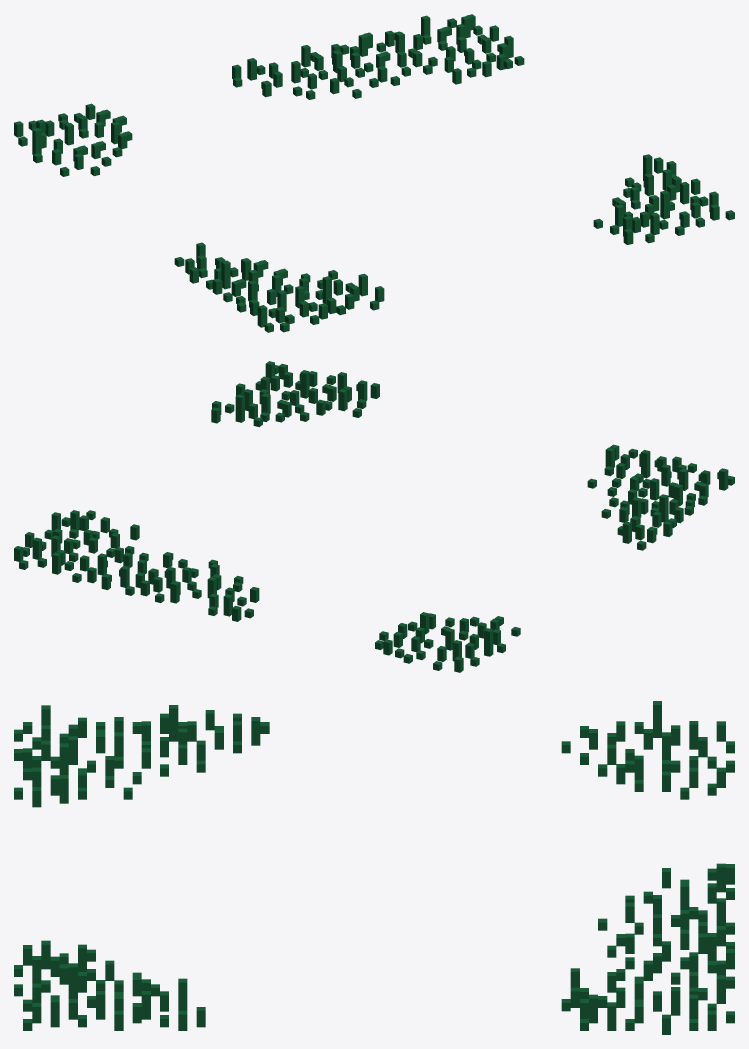
File: river_plants_3_overtile.obj
The picture shows the model from 3 angles, top to bottom: view 1: azimuth 30°, elevation 25°; view 2: azimuth 150°, elevation 25°; view 3: azimuth 270°, elevation 25°; orthographic projection. The views are drawn at different scales.
Size of the model in its own units: 8 by 0.4 by 7.9.
1 material, 1 textured.
